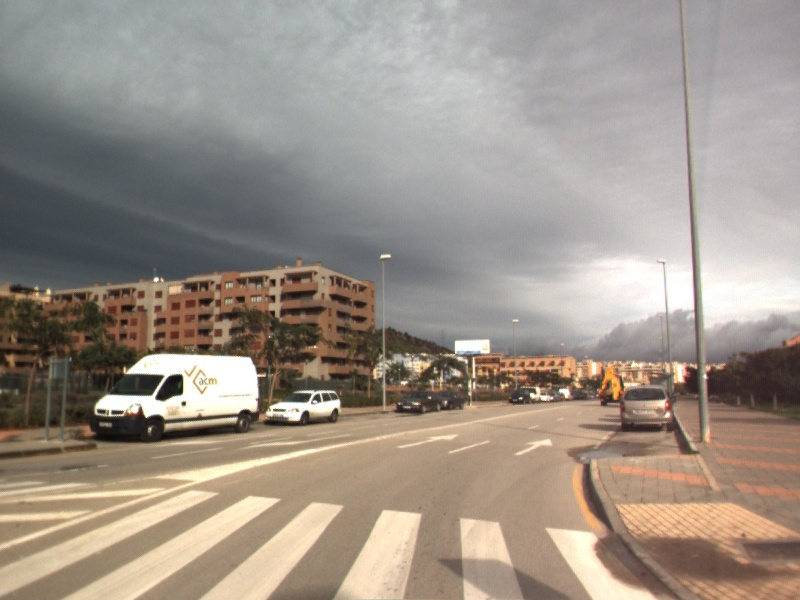STRAIGHT: (395, 432, 460, 450), (513, 437, 554, 457)
